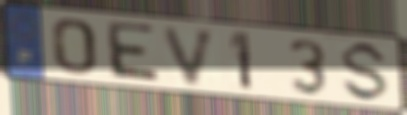0: (49, 16, 102, 78)
1: (228, 29, 254, 94)
3: (286, 38, 329, 96)
E: (106, 19, 164, 86)
S: (339, 40, 392, 104)
V: (160, 24, 221, 89)
